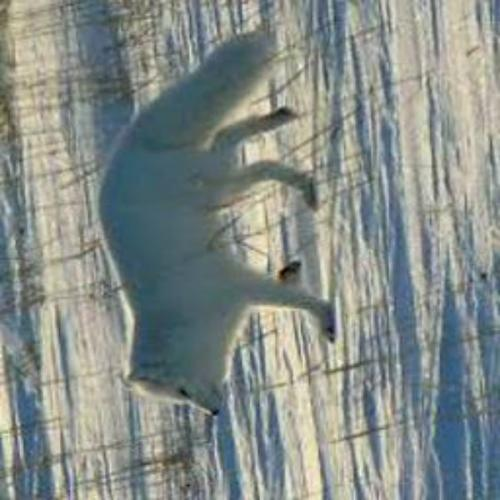arctic_fox-endangered: (94, 30, 338, 421)
